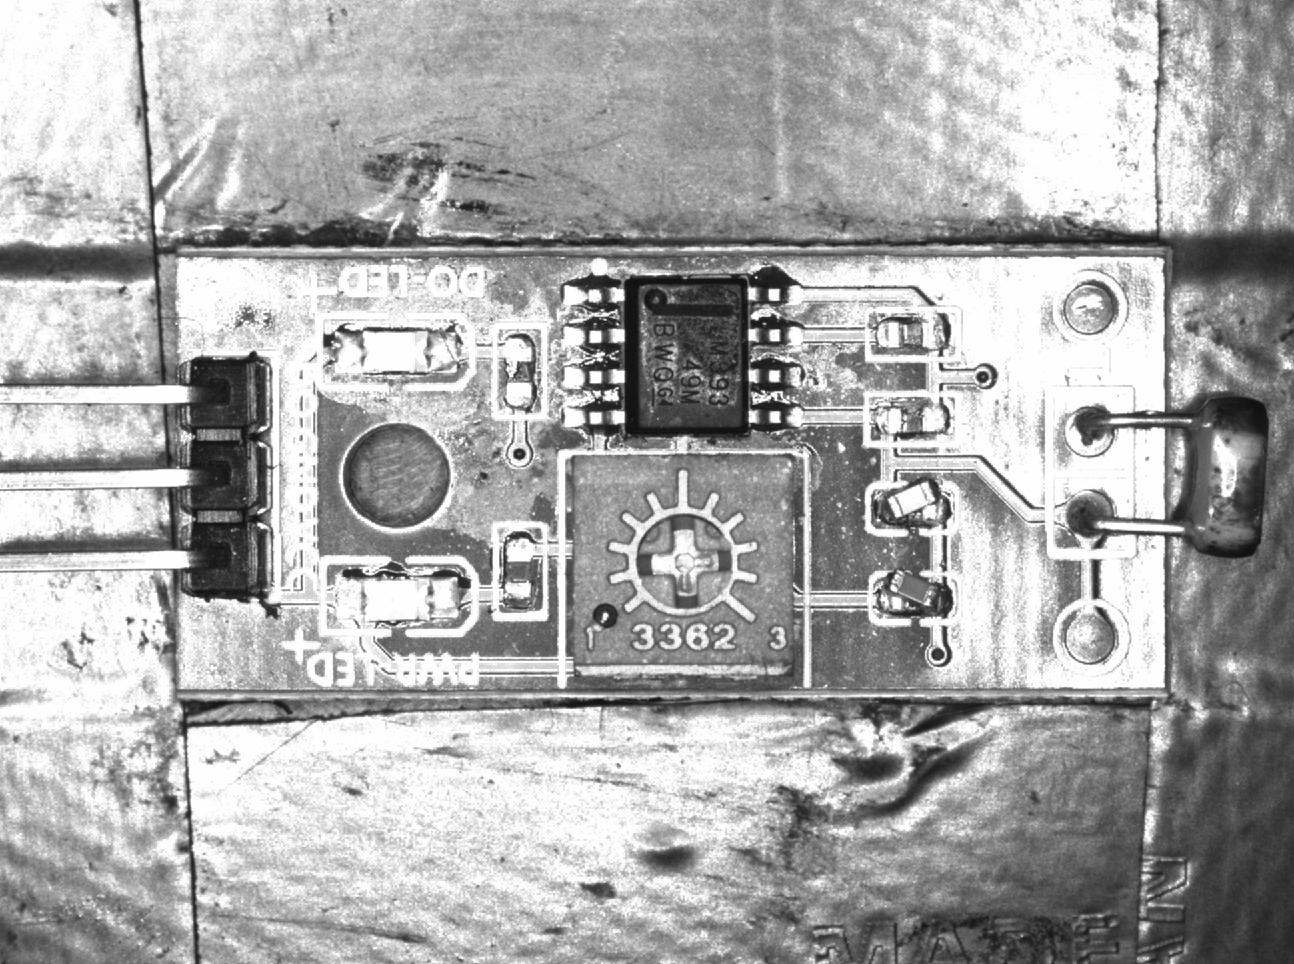lifted: (865, 478, 959, 537), (869, 568, 958, 627)
miss: (492, 322, 549, 415), (866, 392, 962, 447), (869, 309, 965, 361), (493, 526, 547, 614)
